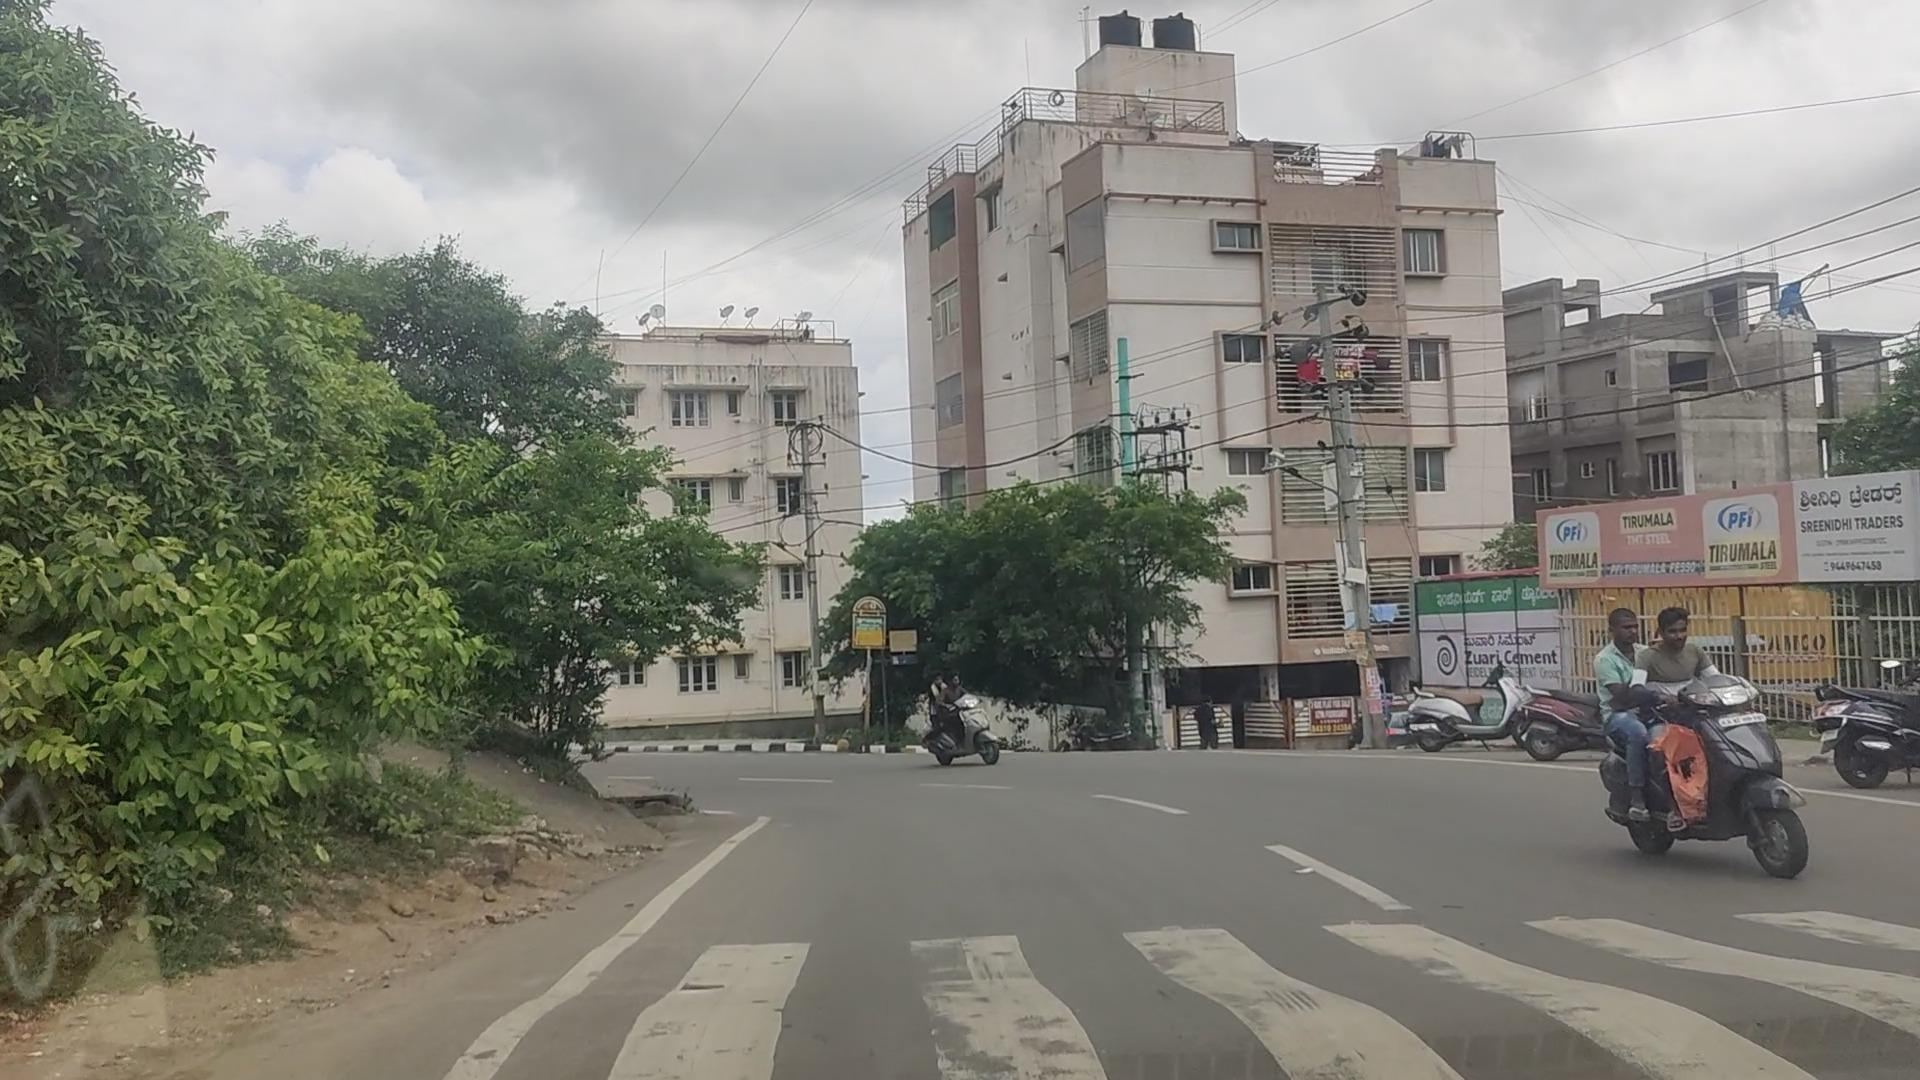LMV: (1582, 605, 1803, 878)
SpeedBump: (584, 882, 1920, 1080)
